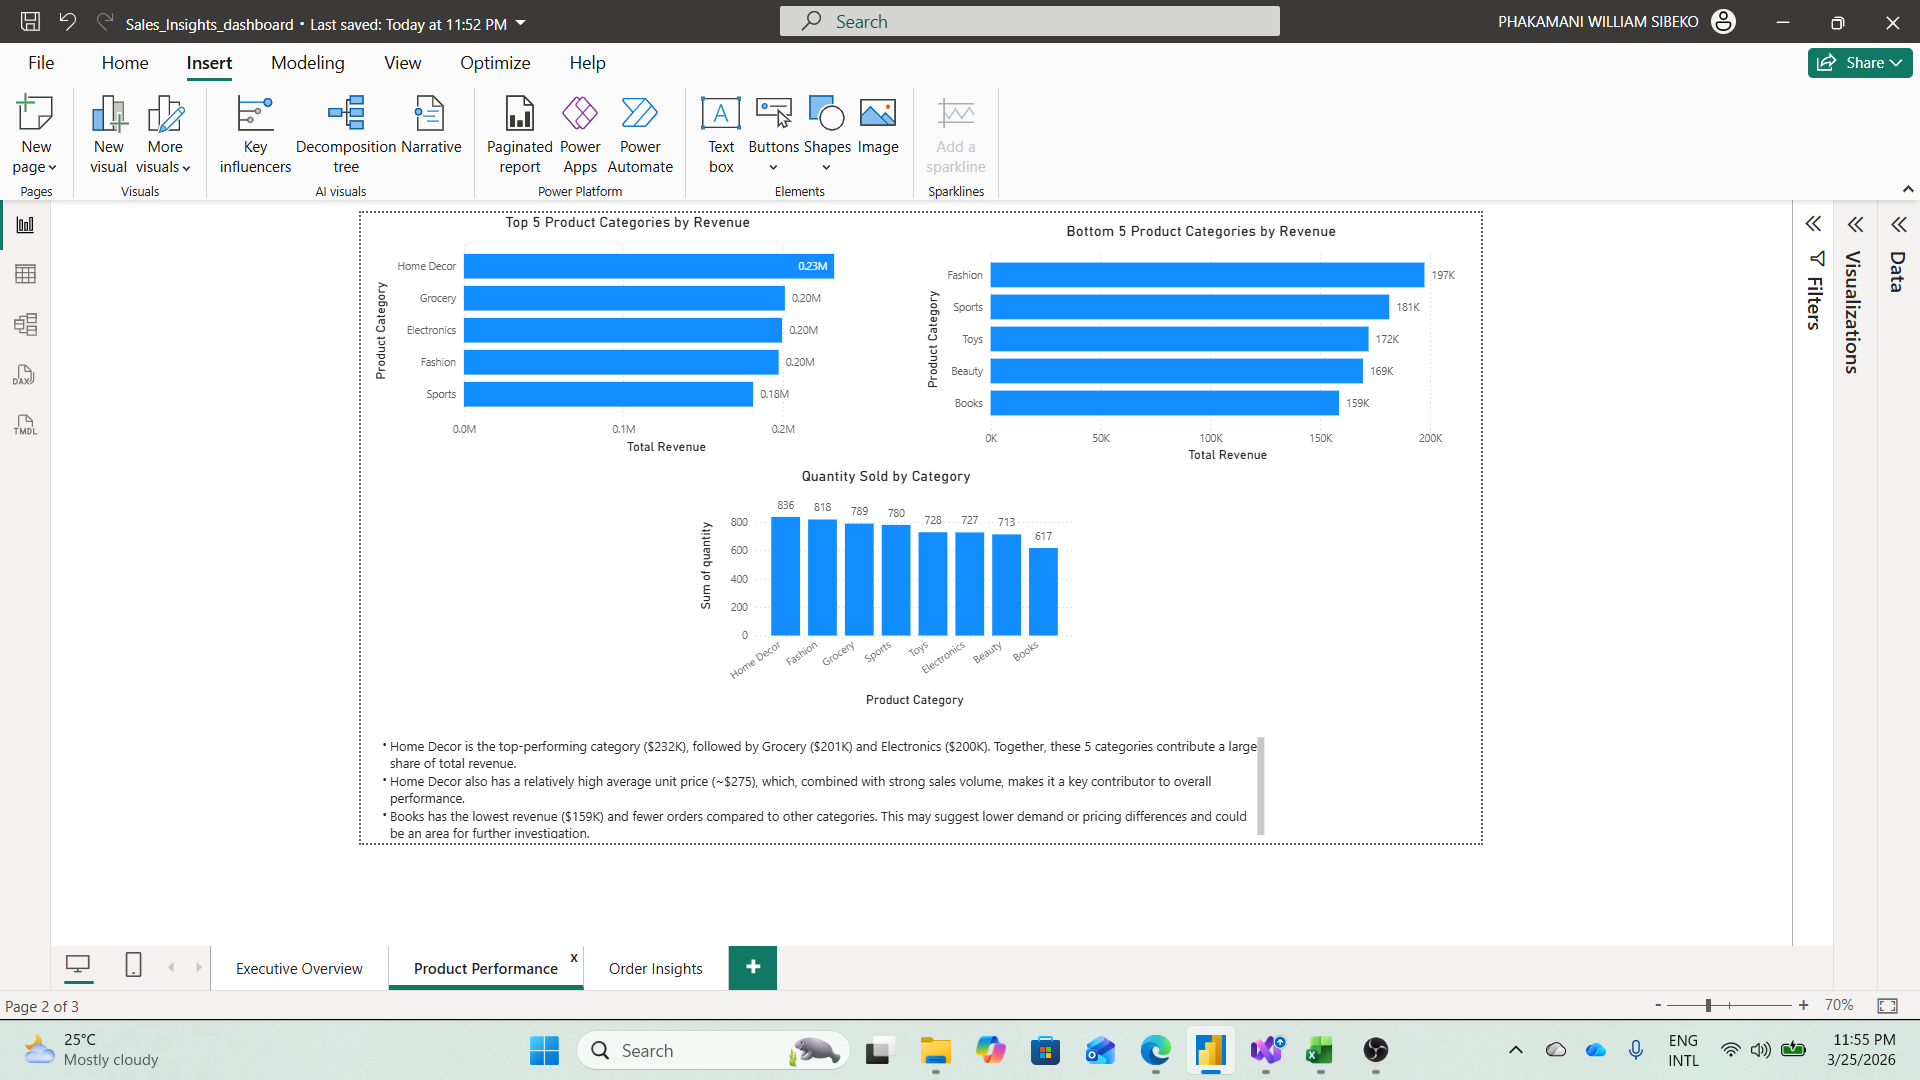

Layout of this report page (visuals, bound fields, positions):
{"tool":"powerbi","page":{"name":"Product Performance","canvas":[1280,720],"ordinal":1},"visuals":[{"type":"clusteredBarChart","title":"Top 5 Product Categories by Revenue","fields":{"Category":["cleaned_ecommerce_data.product_category"],"Y":["cleaned_ecommerce_data.Total Revenue"]},"box":[9.6,0,590.1,279.9],"z":0},{"type":"clusteredBarChart","title":"Bottom 5 Product Categories by Revenue","fields":{"Category":["cleaned_ecommerce_data.product_category"],"Y":["cleaned_ecommerce_data.Total Revenue"]},"box":[639.5,9.6,640.8,279.9],"z":1000},{"type":"clusteredColumnChart","title":"Quantity Sold by Category","fields":{"Category":["cleaned_ecommerce_data.product_category"],"Y":["Sum(cleaned_ecommerce_data.quantity)"]},"box":[381.5,289.5,437.7,279.9],"z":2000},{"type":"textbox","box":[10,594.3,1027.1,125.7],"z":3000}]}

Visuals, with their boxes on the page's 1280x720 design canvas (x1, y1, x2, y2). These are canvas units, not pixel positions in the 1920x1080 screenshot, which may show the page scaled, cropped or inside an application window:
"Top 5 Product Categories by Revenue" clusteredBarChart: detection(10, 0, 600, 280)
"Bottom 5 Product Categories by Revenue" clusteredBarChart: detection(640, 10, 1280, 290)
"Quantity Sold by Category" clusteredColumnChart: detection(382, 290, 819, 569)
textbox: detection(10, 594, 1037, 720)
